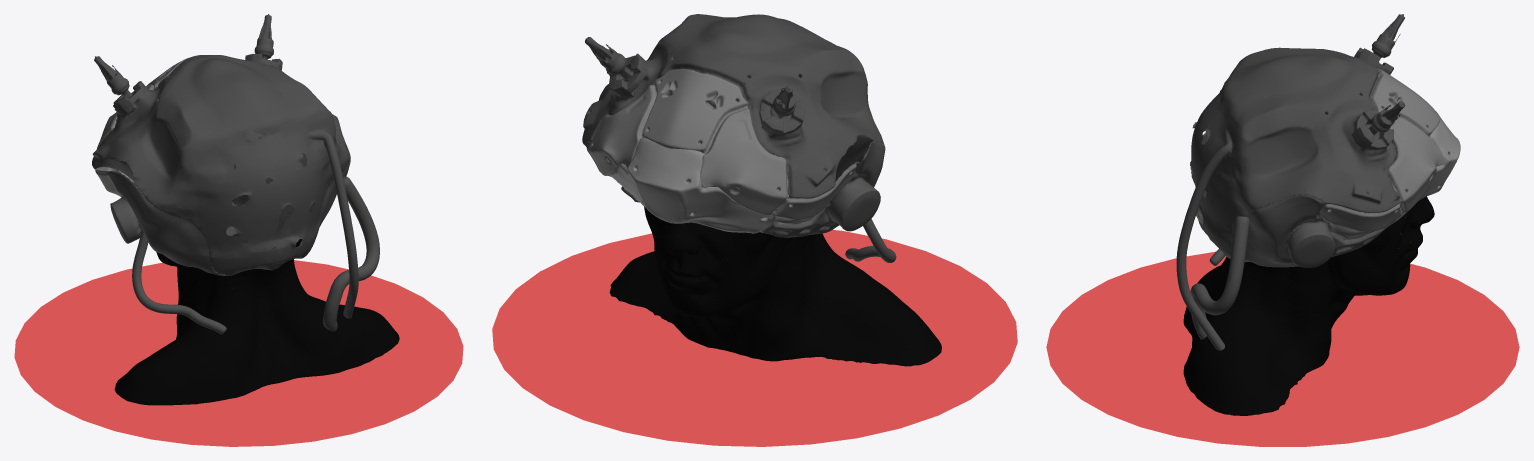
The picture shows the model from 3 angles, left to right: view 1: azimuth 30°, elevation 25°; view 2: azimuth 150°, elevation 25°; view 3: azimuth 270°, elevation 25°; orthographic projection. The views are drawn at different scales.
Parts seen in each view (by area): view 1: cith scape houses.004_4, Circle_6, cith scape houses.003_3, cith scape houses.005_5, cith scape houses_0; view 2: Circle_6, cith scape houses.003_3, cith scape houses.004_4, cith scape houses_0, cith scape houses.001_1, cith scape houses.005_5, cith scape houses.002_2; view 3: Circle_6, cith scape houses.004_4, cith scape houses.003_3, cith scape houses.005_5, cith scape houses_0, cith scape houses.002_2, cith scape houses.001_1.
Part boxes in pixels (x1,y1,x2,y2): cith scape houses.004_4: (92, 14, 379, 334); Circle_6: (14, 260, 463, 446); cith scape houses.003_3: (114, 196, 399, 405); cith scape houses.005_5: (107, 117, 350, 275); cith scape houses_0: (96, 58, 188, 240); Circle_6: (492, 230, 1017, 446); cith scape houses.003_3: (609, 206, 941, 366); cith scape houses.004_4: (582, 14, 896, 262); cith scape houses_0: (588, 69, 789, 215); cith scape houses.001_1: (610, 138, 776, 233); cith scape houses.005_5: (604, 88, 885, 237); cith scape houses.002_2: (586, 147, 857, 224); Circle_6: (1046, 251, 1519, 446); cith scape houses.004_4: (1176, 14, 1405, 350); cith scape houses.003_3: (1183, 196, 1434, 415); cith scape houses.005_5: (1227, 194, 1383, 267); cith scape houses_0: (1371, 68, 1443, 212); cith scape houses.002_2: (1319, 203, 1404, 239); cith scape houses.001_1: (1383, 117, 1460, 230).
Bounding box in the file's own units: 2.05 × 1.39 × 2.06.
